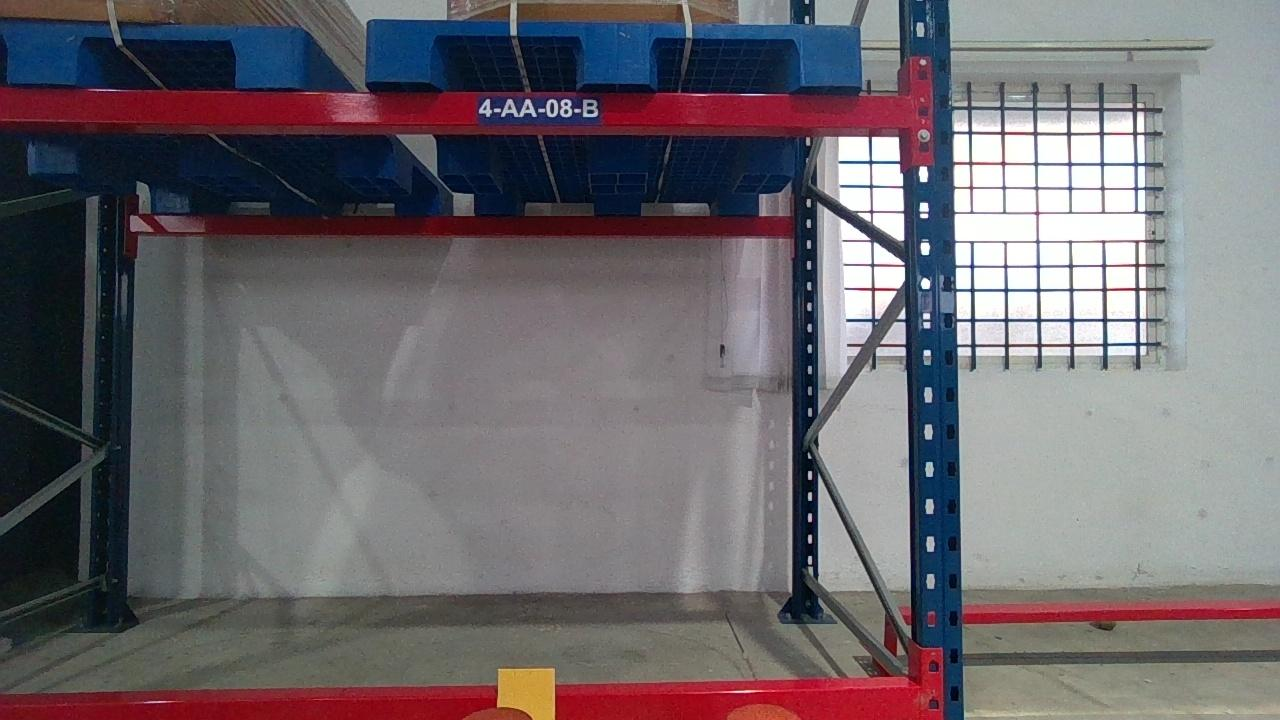h_rack: (1, 674, 919, 720), (1, 86, 916, 127)
orange_strip: (496, 667, 557, 718)
small_pallet: (367, 18, 865, 84), (2, 21, 304, 84)
